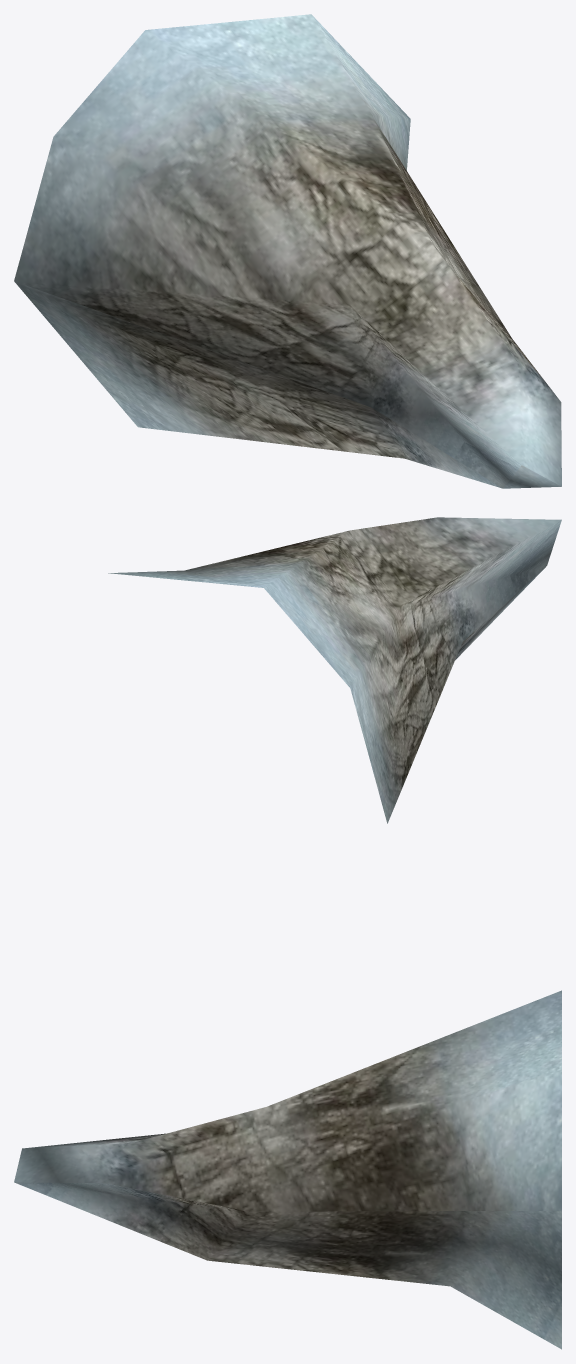
3 renders of one model, top to bottom at view 1: azimuth 30°, elevation 25°; view 2: azimuth 150°, elevation 25°; view 3: azimuth 270°, elevation 25°, orthographic. The views are drawn at different scales.
Visible parts, largest first — view 1: model_Object85; view 2: model_Object85; view 3: model_Object85.
Part boxes in pixels (box(x1,y1,x2,y2)): model_Object85: box(14, 14, 561, 488); model_Object85: box(108, 517, 561, 823); model_Object85: box(14, 990, 561, 1349).
Size of the model in its own units: 2.99 by 2.85 by 4.6.
Materials: 1 (1 with a texture image).
